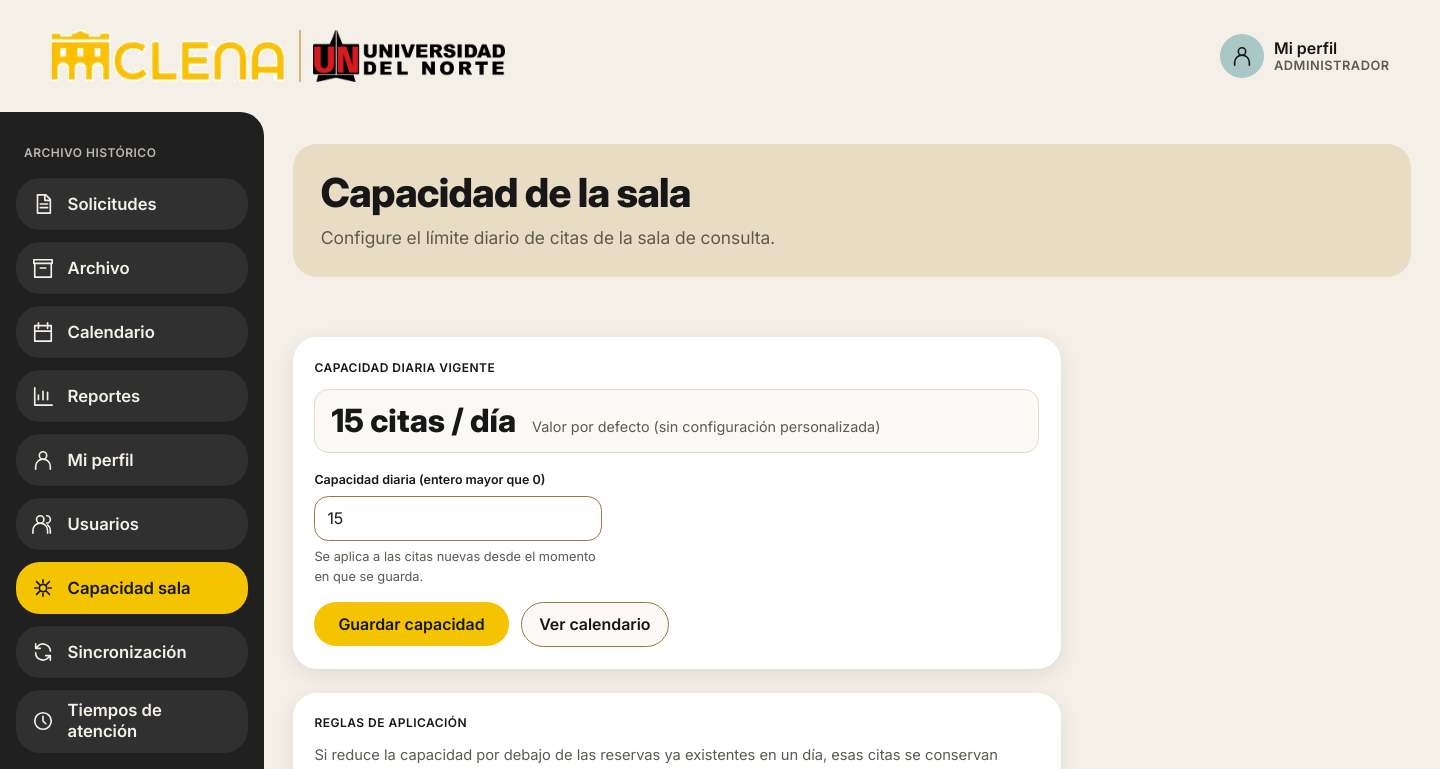
Test: RoomCapacityPage › keeps the typed value and displays server error when saving fails with 403
Replace the text in the number field labelled "Capacidad diaria (entero mayor que 0)" with "30" at (458, 518), box [314,496,602,541]
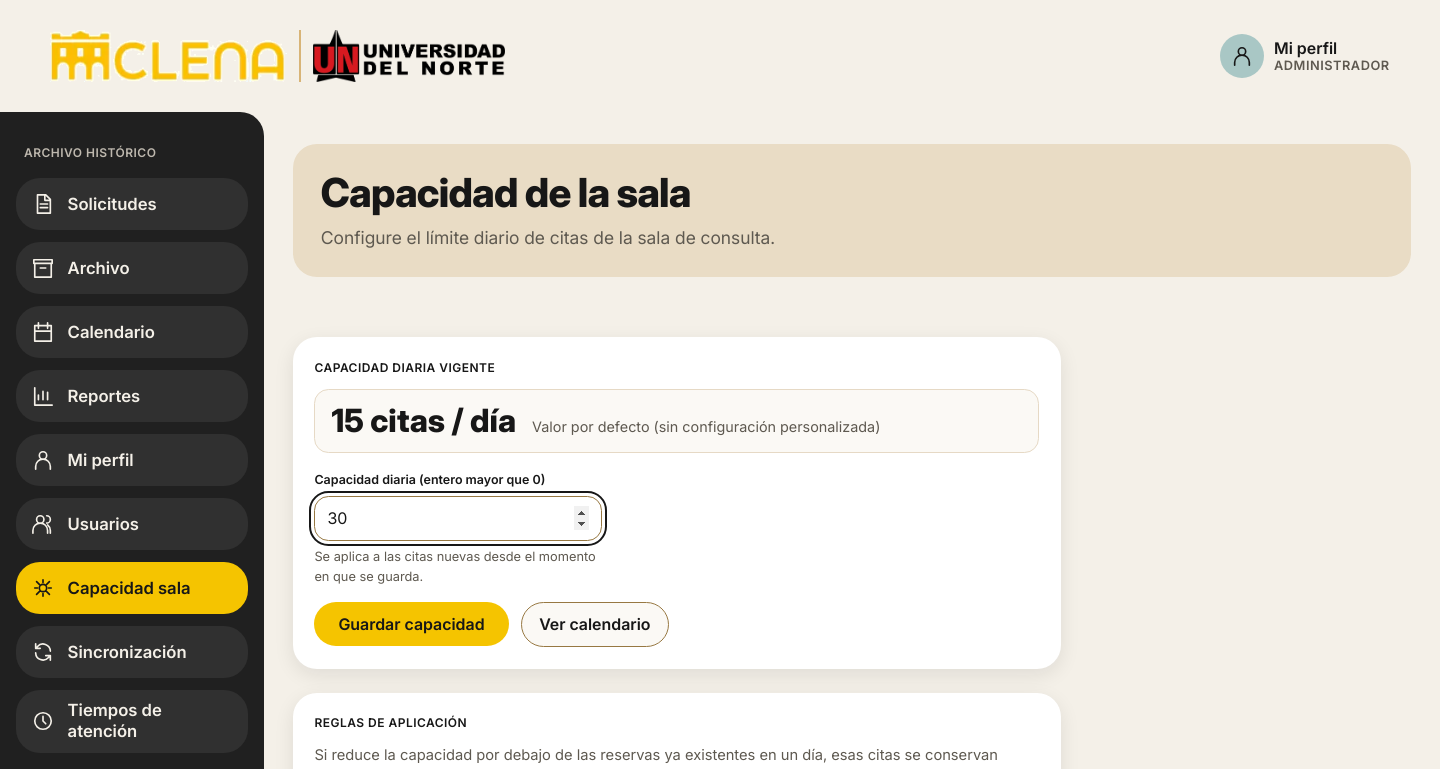
Click the button "Guardar capacidad" at (412, 624), box [314,602,509,646]
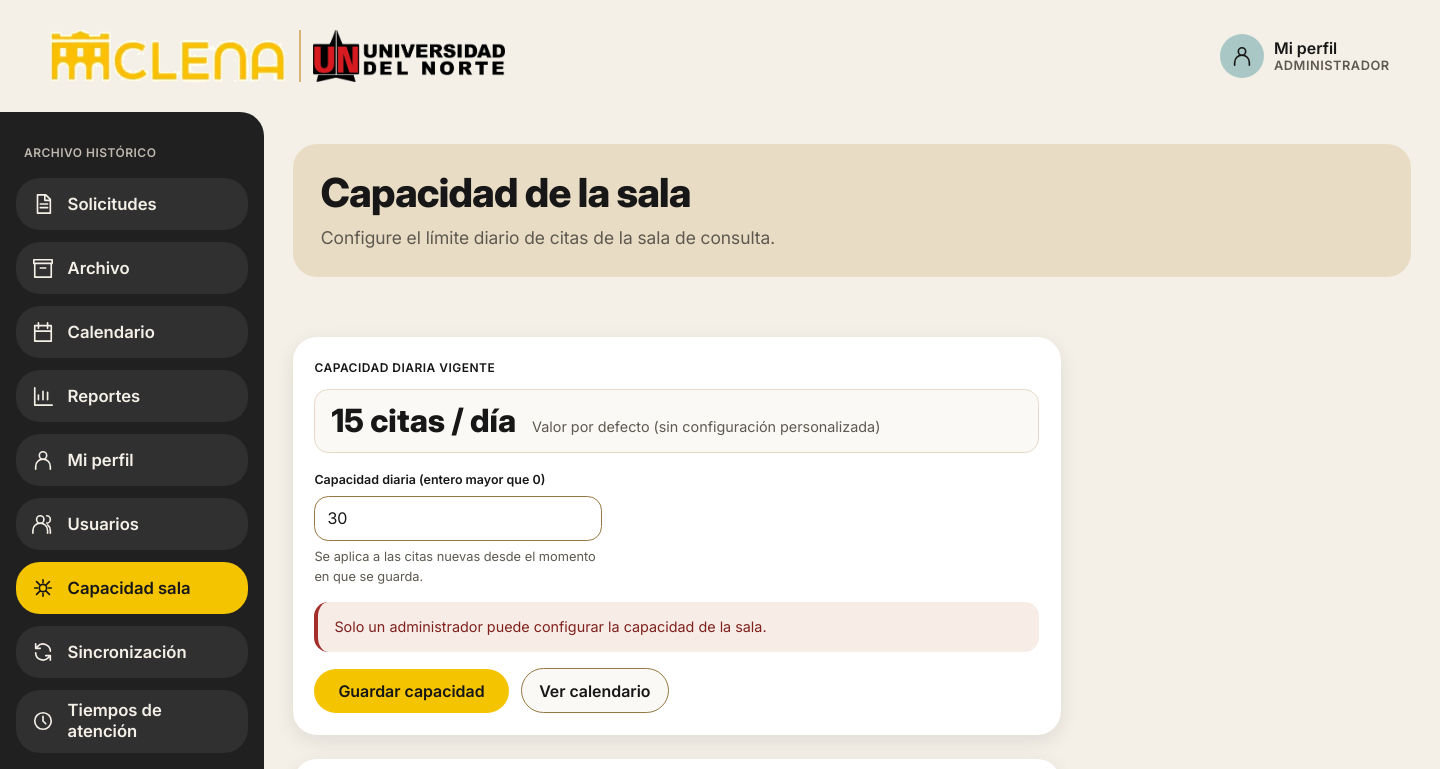
Expected: the message reads "Solo un administrador puede configurar la capacidad de la sala.", [334,618,767,635]
